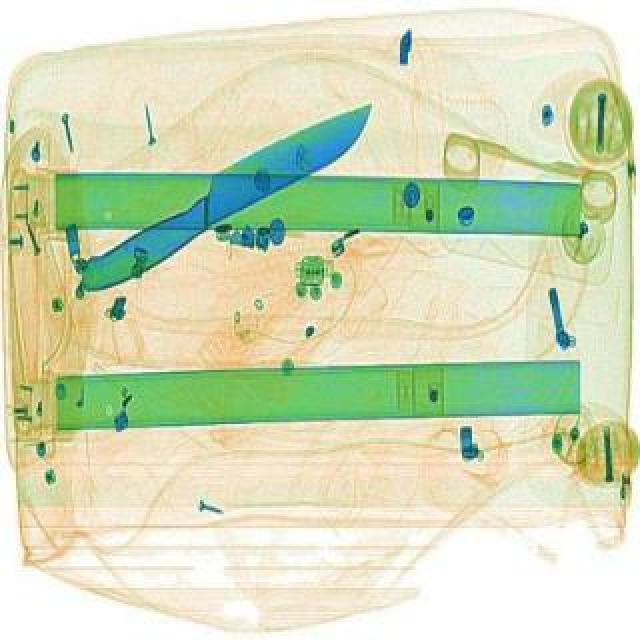knife: (66, 88, 390, 300)
